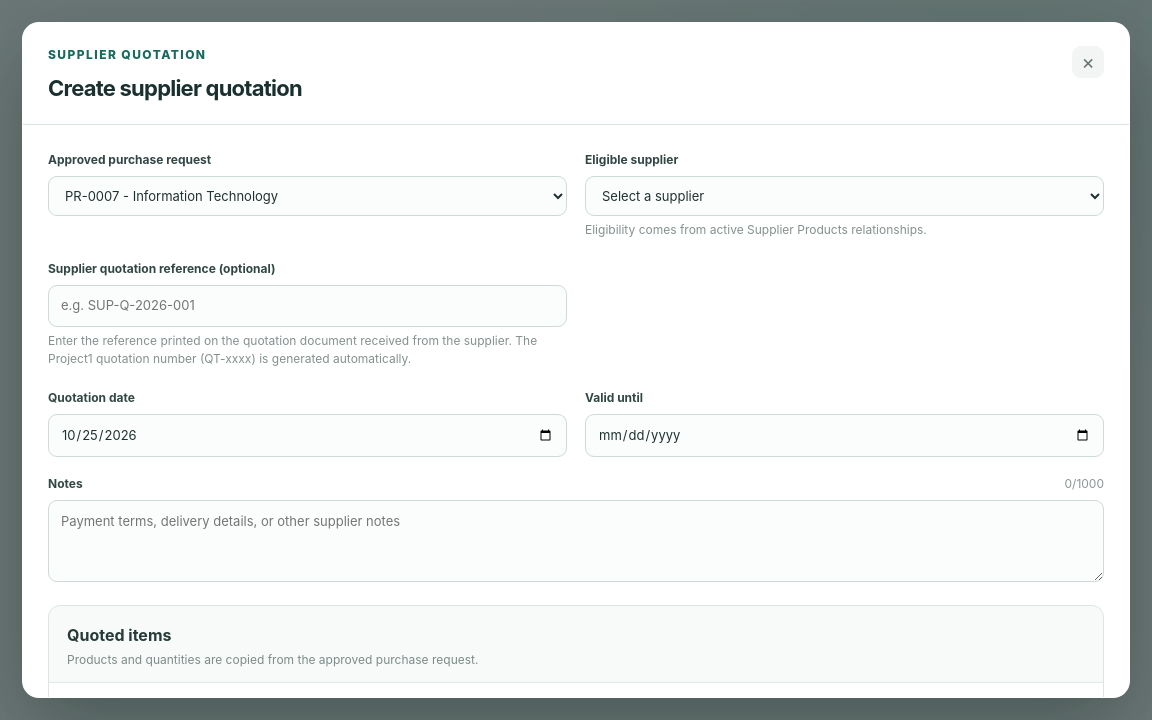
Test: QuotationForm › requires a positive price for every item before submission
The width and height of the screenshot is (1152, 720).
Select "SUP-0001 - Complete Supplier" in the dropdown labelled "Eligible supplier": (844, 196) [585, 176, 1104, 216]
(page scrolled)
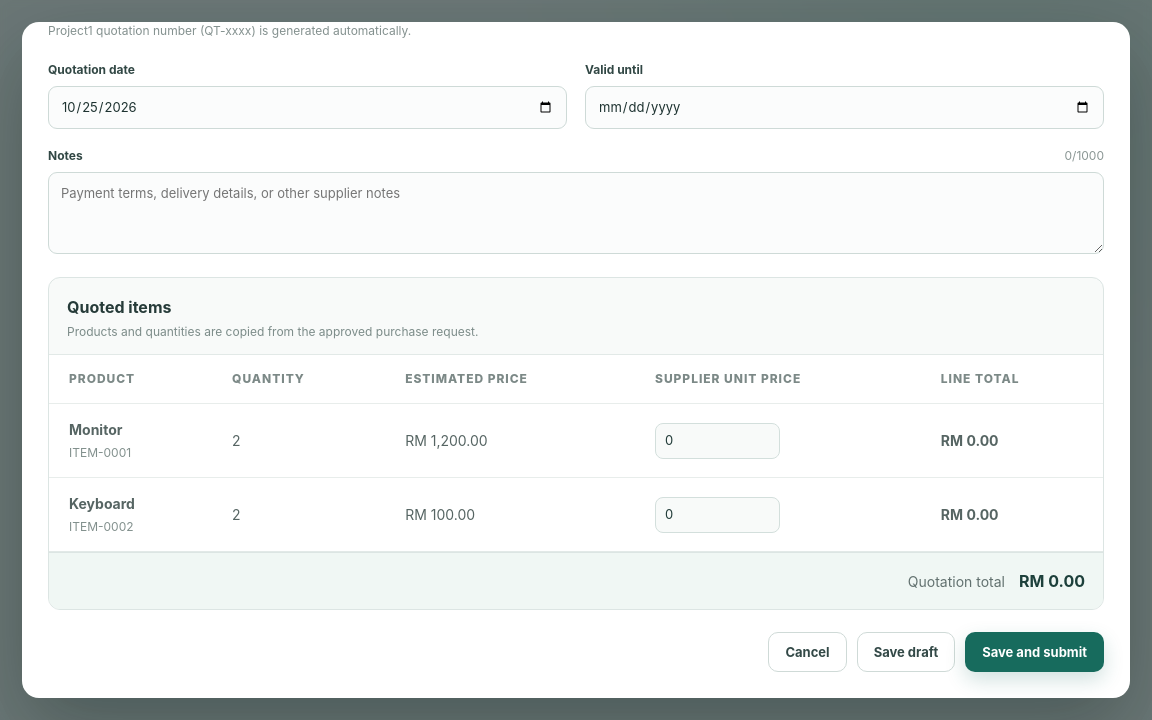
Click the button "Save and submit": (1035, 652) [965, 632, 1104, 672]
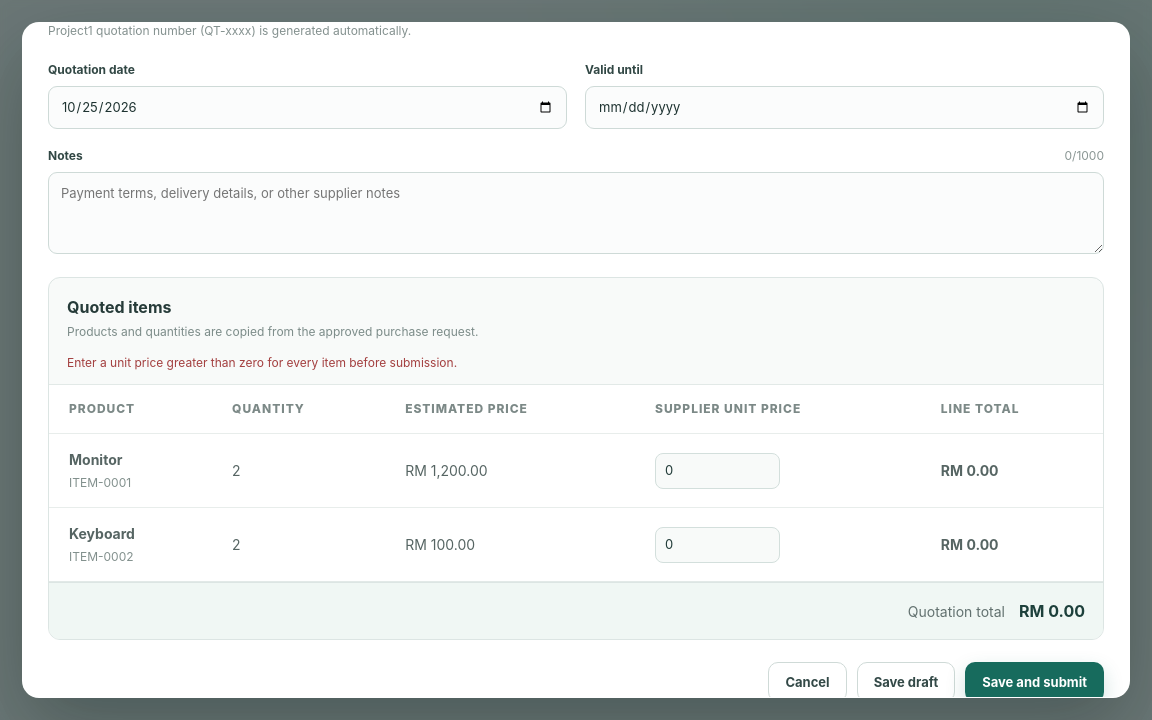
Expected: the text "Enter a unit price greater than zero" is shown, [67, 355, 457, 370]
